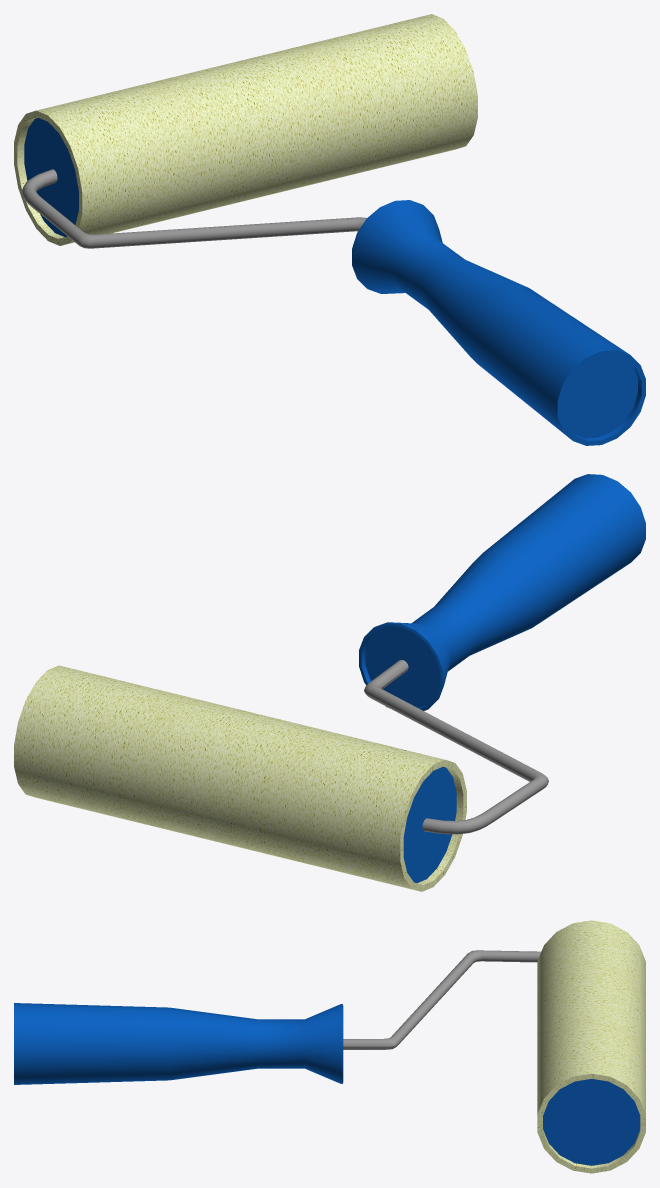
The model's file is Roll handle.FBX.
3 renders of one model, top to bottom at view 1: azimuth 30°, elevation 25°; view 2: azimuth 150°, elevation 25°; view 3: azimuth 270°, elevation 25°, orthographic. The views are drawn at different scales.
Parts seen in each view (by area): view 1: roll handle; view 2: roll handle; view 3: roll handle.
Boxes of the visible parts, x1,y1,x2,y2 form: roll handle: (14, 14, 645, 445); roll handle: (14, 474, 645, 891); roll handle: (14, 920, 645, 1173).
Size of the model in its own units: 12.82 by 3.51 by 20.12.
Materials: 2 (1 with a texture image).
